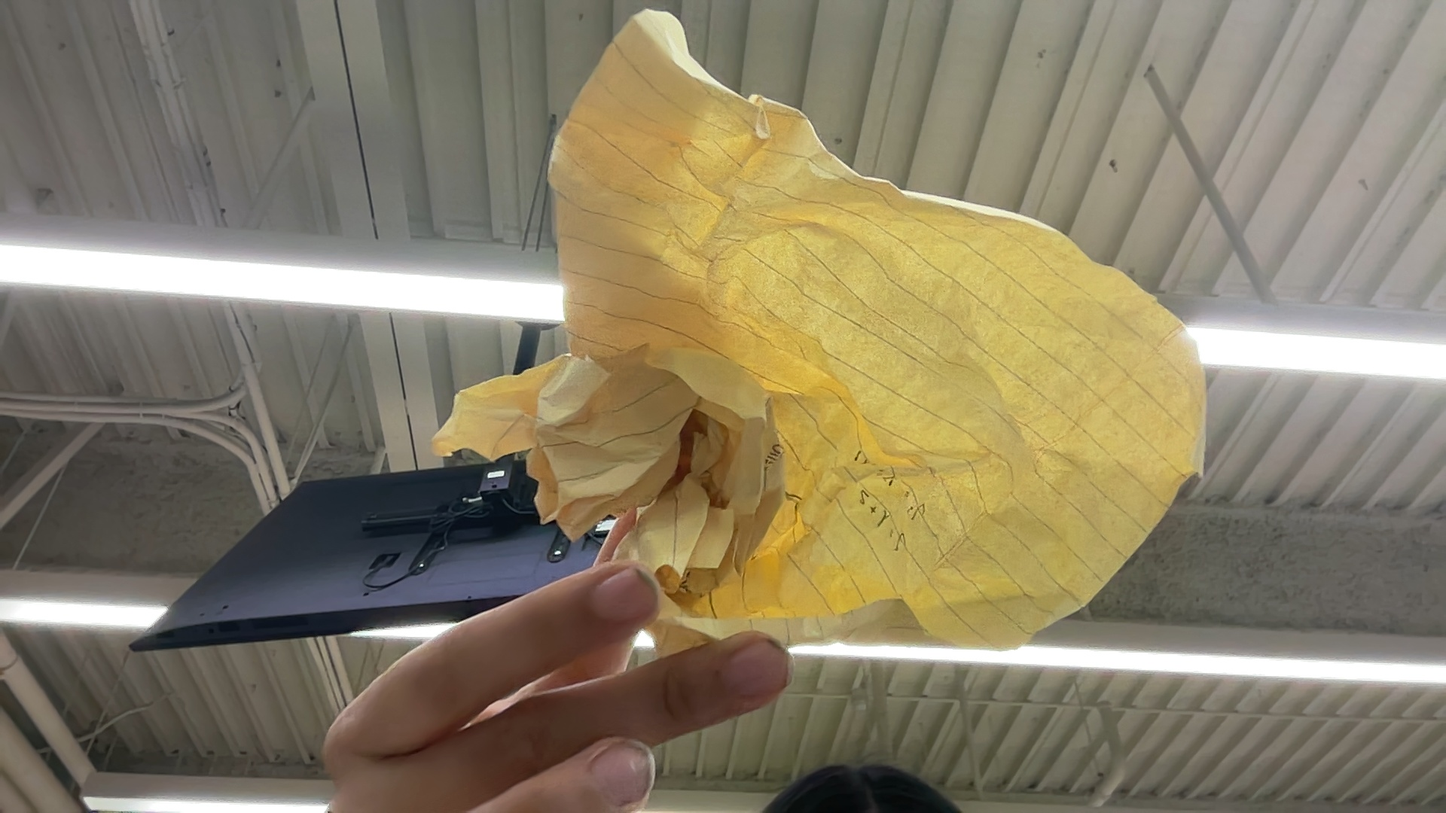Paper: (313, 576, 661, 780)
